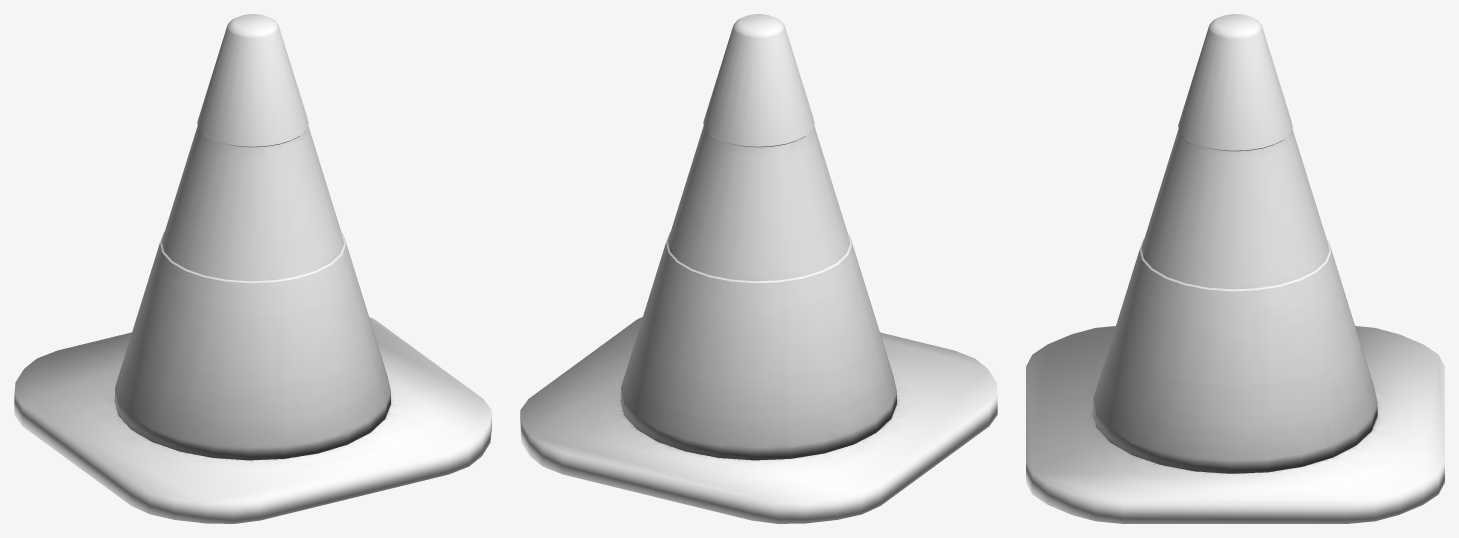
Rendered from cono_05.glb.
3 renders of one model, left to right at view 1: azimuth 30°, elevation 25°; view 2: azimuth 150°, elevation 25°; view 3: azimuth 270°, elevation 25°, orthographic. The views are drawn at different scales.
Visible parts, largest first — view 1: naranja1, blanco.001; view 2: naranja1, blanco.001; view 3: naranja1, blanco.001.
Part boxes in pixels (left/top/right/bottom): naranja1: left=14, top=14, right=491, bottom=523; blanco.001: left=160, top=125, right=345, bottom=283; naranja1: left=520, top=14, right=997, bottom=523; blanco.001: left=666, top=125, right=851, bottom=283; naranja1: left=1026, top=14, right=1444, bottom=523; blanco.001: left=1139, top=129, right=1331, bottom=291.
Size of the model in its own units: 0.5 by 0.5442 by 0.5.
Materials: 2 (2 with a texture image).
